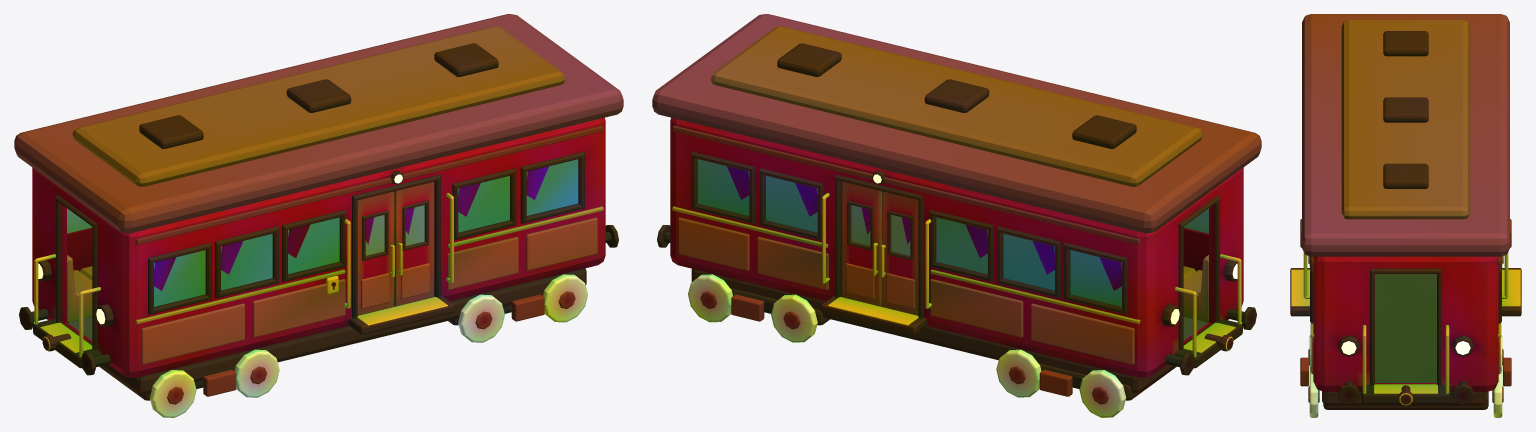
Rendered from RegionalWagon_Blockout.fbx.
3 views of the same model, side by side, from view 1: azimuth 30°, elevation 25°; view 2: azimuth 150°, elevation 25°; view 3: azimuth 270°, elevation 25° (orthographic). The views are drawn at different scales.
Parts seen in each view (by area): view 1: Roof, Body, Windows, Livery, Underframe, Ends, DoorLeaf_R, DoorLeaf_L, DoorSill, DoorFrame, Interior, GrabRails; view 2: Roof, Body, Windows, Livery, Underframe, Ends, DoorLeaf_R_Far, DoorLeaf_L_Far, DoorSill_Far, DoorFrame_Far, Interior, GrabRails_Far; view 3: Roof, Body, Interior, Ends, Underframe, DoorSill, DoorSill_Far, Windows, Livery, Coupler_Front, GrabRails, GrabRails_Far.
Boxes of the visible parts, x1,y1,x2,y2 form: Roof: (14, 14, 623, 233); Body: (32, 117, 605, 377); Windows: (67, 151, 584, 314); Livery: (135, 125, 603, 364); Underframe: (99, 268, 587, 417); Ends: (19, 195, 618, 375); DoorLeaf_R: (394, 181, 434, 305); DoorLeaf_L: (357, 191, 393, 315); DoorSill: (348, 296, 454, 334); DoorFrame: (352, 174, 440, 318); Interior: (67, 192, 394, 340); GrabRails: (344, 193, 453, 308); Roof: (652, 14, 1261, 233); Body: (670, 117, 1243, 377); Windows: (691, 151, 1208, 314); Livery: (672, 125, 1140, 364); Underframe: (688, 268, 1176, 417); Ends: (657, 195, 1256, 375); DoorLeaf_R_Far: (841, 181, 881, 305); DoorLeaf_L_Far: (882, 191, 918, 315); DoorSill_Far: (821, 296, 927, 334); DoorFrame_Far: (835, 174, 923, 318); Interior: (881, 192, 1208, 340); GrabRails_Far: (822, 193, 931, 308); Roof: (1302, 14, 1509, 256); Body: (1313, 256, 1498, 391); Interior: (1375, 274, 1436, 382); Ends: (1337, 268, 1474, 404); Underframe: (1300, 219, 1511, 417); DoorSill: (1290, 268, 1309, 316); DoorSill_Far: (1502, 268, 1521, 316); Windows: (1310, 256, 1501, 323); Livery: (1310, 256, 1501, 373); Coupler_Front: (1398, 385, 1413, 405); GrabRails: (1303, 252, 1309, 298); GrabRails_Far: (1502, 252, 1508, 298).
Size of the model in its own units: 8.16 by 3.44 by 3.24.
